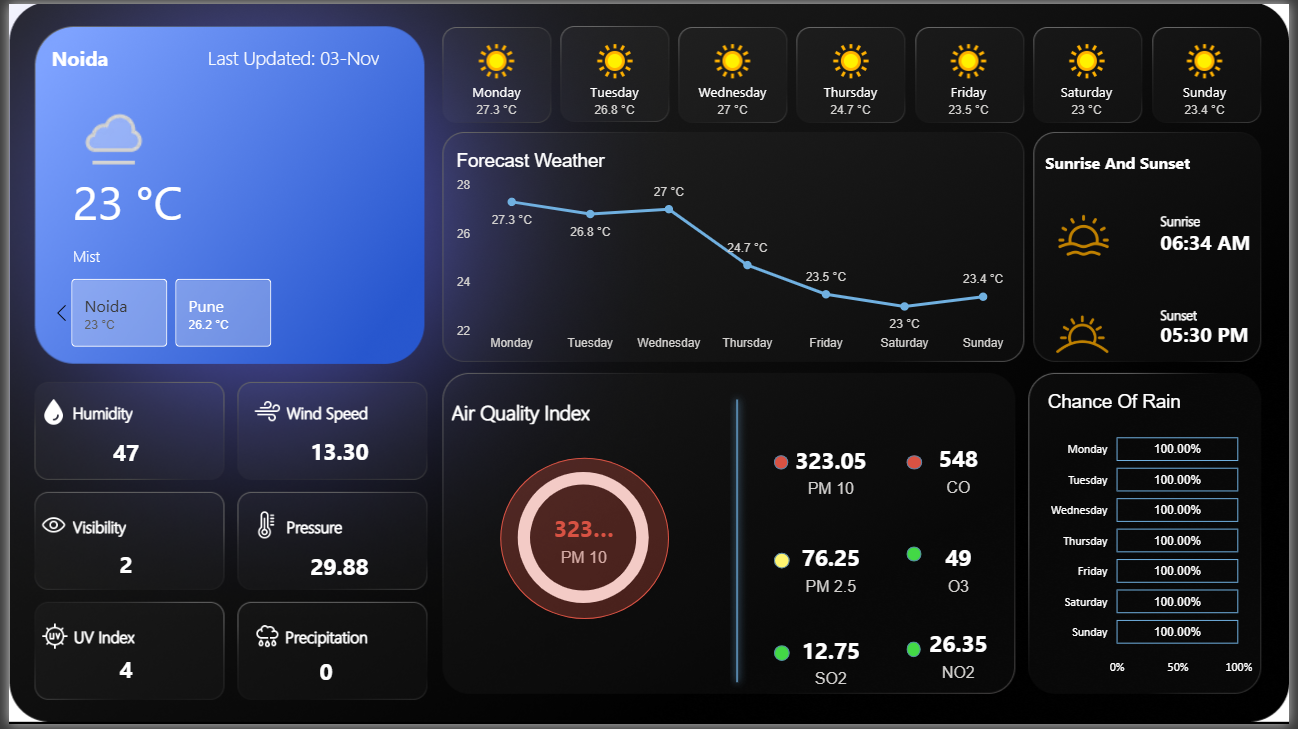

The page's visual inventory and layout, read from the dashboard file:
{"tool":"powerbi","page":{"name":"Page 1","canvas":[1280,720],"ordinal":0},"visuals":[{"type":"advancedSlicerVisual","fields":{"Values":["Location.location.name"]},"box":[37.4,270.2,354.7,78.4],"z":0},{"type":"shape","box":[63.9,158,150.8,78.4],"z":1000},{"type":"shape","box":[63.9,231.6,194.2,38.6],"z":2000},{"type":"shape","box":[42.2,33.8,119.4,38.6],"z":3000},{"type":"shape","box":[199.1,33.8,193,38.6],"z":4000},{"type":"cardVisual","fields":{"Data":["Min(Current.current.condition.icon)"]},"box":[37.4,72.4,124.3,115.8],"z":5000},{"type":"shape","box":[63.9,388.5,70,38.6],"z":6000},{"type":"shape","box":[63.9,501.9,70,38.6],"z":7000},{"type":"shape","box":[65.1,612.9,70,38.6],"z":8000},{"type":"shape","box":[277.5,388.8,98.8,38.8],"z":9000},{"type":"shape","box":[277.5,501.9,70,38.6],"z":10000},{"type":"shape","box":[276.3,612.9,98.9,38.6],"z":11000},{"type":"image","box":[26.5,388.5,37.4,38.6],"z":12000},{"type":"image","box":[26.5,501.9,37.4,37.4],"z":13000},{"type":"image","box":[240.1,388.5,37.4,37.4],"z":14000},{"type":"image","box":[27.7,614.1,37.4,37.4],"z":15000},{"type":"image","box":[238.9,503.1,37.4,37.4],"z":16000},{"type":"image","box":[240.1,614.1,37.4,37.4],"z":17000},{"type":"card","fields":{"Values":["Sum(Current.current.humidity)"]},"box":[95.3,427.1,44.6,44.6],"z":18000},{"type":"card","fields":{"Values":["Sum(Current.current.vis_km)"]},"box":[95.3,540.5,44.6,44.6],"z":19000},{"type":"card","fields":{"Values":["Sum(Current.current.uv)"]},"box":[95.3,645.4,44.6,44.6],"z":20000},{"type":"card","fields":{"Values":["Sum(Current.current.wind_kph)"]},"box":[295.6,425.9,71.2,44.6],"z":21000},{"type":"card","fields":{"Values":["Sum(Current.current.pressure_in)"]},"box":[295.6,541.7,71.2,44.6],"z":22000},{"type":"card","fields":{"Values":["Sum(Current.current.precip_in)"]},"box":[295.6,646.7,44.6,44.6],"z":23000},{"type":"advancedSlicerVisual","fields":{"Values":["Forecast_Day.Day Name"]},"box":[427.1,33.8,831.2,96.5],"z":24000},{"type":"lineChart","title":"Forecast Weather","fields":{"Category":["Forecast_Day.Day Name"],"Y":["Sum(Forecast_Day.forecast.forecastday.day.avgtemp_c)"]},"box":[442.8,146,568.2,208.7],"z":25000},{"type":"shape","box":[1036.3,138.7,155.6,38.6],"z":26000},{"type":"shape","box":[1150.9,217.2,107.4,38.6],"z":27000},{"type":"shape","box":[1150.9,310.1,107.4,38.6],"z":28000},{"type":"shape","box":[1150.9,197.9,70,38.6],"z":29000},{"type":"shape","box":[1150.9,290.8,70,38.6],"z":30000},{"type":"image","box":[1033.9,284.7,79.6,90.5],"z":31000},{"type":"image","box":[1035.1,201.5,78.4,60.3],"z":32000},{"type":"hundredPercentStackedBarChart","title":"Chance Of Rain","fields":{"Category":["Forecast_Day.Day Name"],"Y":["Sum(Forecast_Day.forecast.forecastday.day.daily_chance_of_rain)","_Measures.Left_value_rain"]},"box":[1033.9,387.3,214.7,293.2],"z":33000},{"type":"card","fields":{"Values":["Sum(Current.current.air_quality.co)"]},"box":[912.9,428.7,74.1,72.6],"z":33001},{"type":"card","fields":{"Values":["Sum(Current.current.air_quality.o3)"]},"box":[912.9,526.9,74.1,72.6],"z":33002},{"type":"card","fields":{"Values":["Sum(Current.current.air_quality.no2)"]},"box":[912.9,613.8,74.1,72.6],"z":33003},{"type":"card","fields":{"Values":["Sum(Current.current.air_quality.pm10)"]},"box":[780.4,430.1,84,72.6],"z":33004},{"type":"card","fields":{"Values":["Sum(Current.current.air_quality.pm2_5)"]},"box":[780.4,526.9,84,72.6],"z":33005},{"type":"card","fields":{"Values":["Sum(Current.current.air_quality.so2)"]},"box":[780.4,619.5,84,72.6],"z":33006},{"type":"shape","box":[764.8,451.4,14.2,14.2],"z":33007},{"type":"shape","box":[897.2,451.4,15.7,14.2],"z":33008},{"type":"shape","box":[897,542.6,15,15],"z":33009},{"type":"shape","box":[897.2,638,14.2,15.7],"z":33010},{"type":"shape","box":[764.8,548.3,15.7,15.7],"z":33011},{"type":"shape","box":[764.8,640.9,15.7,15.7],"z":33012},{"type":"shape","box":[716.2,387.5,23.8,298.8],"z":33013},{"type":"card","fields":{"Values":["Sum(Current.current.air_quality.pm10)"]},"box":[538.8,505,72.5,60],"z":33014},{"type":"donutChart","fields":{"Y":["Sum(Current.current.air_quality.pm10)","_Measures.Left value PM10"]},"box":[487.5,438.8,173.8,190],"z":33015},{"type":"shape","box":[491.2,453.8,168.8,161.2],"z":33016},{"type":"shape","box":[442.5,387.5,177.5,38.8],"z":33017}]}

Visuals, with their boxes in screenshot pixels (x1, y1, x2, y2), scaled from the page's 1280x720 canvas onto the 1298x729 screenshot:
advancedSlicerVisual - Location.location.name: [left=38, top=274, right=398, bottom=353]
shape: [left=65, top=160, right=218, bottom=239]
shape: [left=65, top=234, right=262, bottom=274]
shape: [left=43, top=34, right=164, bottom=73]
shape: [left=202, top=34, right=398, bottom=73]
cardVisual - Min(Current.current.condition.icon): [left=38, top=73, right=164, bottom=191]
shape: [left=65, top=393, right=136, bottom=432]
shape: [left=65, top=508, right=136, bottom=547]
shape: [left=66, top=621, right=137, bottom=660]
shape: [left=281, top=394, right=382, bottom=433]
shape: [left=281, top=508, right=352, bottom=547]
shape: [left=280, top=621, right=380, bottom=660]
image: [left=27, top=393, right=65, bottom=432]
image: [left=27, top=508, right=65, bottom=546]
image: [left=243, top=393, right=281, bottom=431]
image: [left=28, top=622, right=66, bottom=660]
image: [left=242, top=509, right=280, bottom=547]
image: [left=243, top=622, right=281, bottom=660]
card - Sum(Current.current.humidity): [left=97, top=432, right=142, bottom=478]
card - Sum(Current.current.vis_km): [left=97, top=547, right=142, bottom=592]
card - Sum(Current.current.uv): [left=97, top=653, right=142, bottom=699]
card - Sum(Current.current.wind_kph): [left=300, top=431, right=372, bottom=476]
card - Sum(Current.current.pressure_in): [left=300, top=548, right=372, bottom=594]
card - Sum(Current.current.precip_in): [left=300, top=655, right=345, bottom=700]
advancedSlicerVisual - Forecast_Day.Day Name: [left=433, top=34, right=1276, bottom=132]
"Forecast Weather" lineChart: [left=449, top=148, right=1025, bottom=359]
shape: [left=1051, top=140, right=1209, bottom=180]
shape: [left=1167, top=220, right=1276, bottom=259]
shape: [left=1167, top=314, right=1276, bottom=353]
shape: [left=1167, top=200, right=1238, bottom=239]
shape: [left=1167, top=294, right=1238, bottom=334]
image: [left=1048, top=288, right=1129, bottom=380]
image: [left=1050, top=204, right=1129, bottom=265]
"Chance Of Rain" hundredPercentStackedBarChart: [left=1048, top=392, right=1266, bottom=689]
card - Sum(Current.current.air_quality.co): [left=926, top=434, right=1001, bottom=508]
card - Sum(Current.current.air_quality.o3): [left=926, top=533, right=1001, bottom=607]
card - Sum(Current.current.air_quality.no2): [left=926, top=621, right=1001, bottom=695]
card - Sum(Current.current.air_quality.pm10): [left=791, top=435, right=877, bottom=509]
card - Sum(Current.current.air_quality.pm2_5): [left=791, top=533, right=877, bottom=607]
card - Sum(Current.current.air_quality.so2): [left=791, top=627, right=877, bottom=701]
shape: [left=776, top=457, right=790, bottom=471]
shape: [left=910, top=457, right=926, bottom=471]
shape: [left=910, top=549, right=925, bottom=565]
shape: [left=910, top=646, right=924, bottom=662]
shape: [left=776, top=555, right=791, bottom=571]
shape: [left=776, top=649, right=791, bottom=665]
shape: [left=726, top=392, right=750, bottom=695]
card - Sum(Current.current.air_quality.pm10): [left=546, top=511, right=620, bottom=572]
donutChart - Sum(Current.current.air_quality.pm10) x _Measures.Left value PM10: [left=494, top=444, right=671, bottom=637]
shape: [left=498, top=459, right=669, bottom=623]
shape: [left=449, top=392, right=629, bottom=432]
